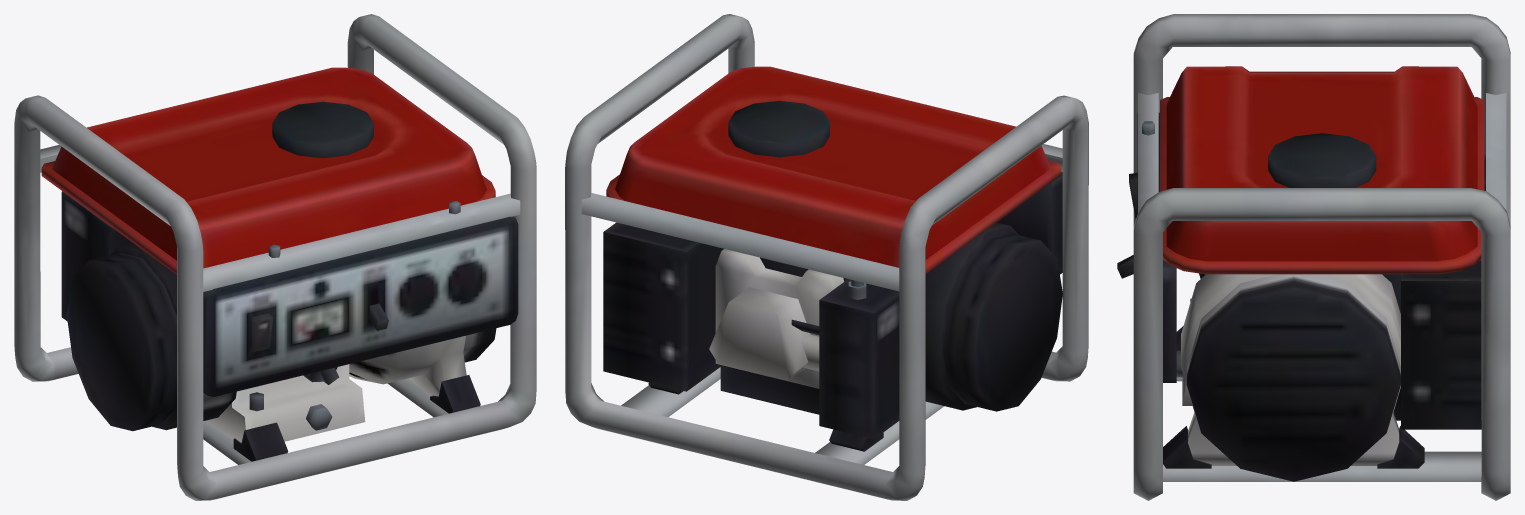
3 views of the same model, side by side, from view 1: azimuth 30°, elevation 25°; view 2: azimuth 150°, elevation 25°; view 3: azimuth 270°, elevation 25° (orthographic). The views are drawn at different scales.
Size of the model in its own units: 7.89 by 6.22 by 7.02.
1 material, 1 textured.
